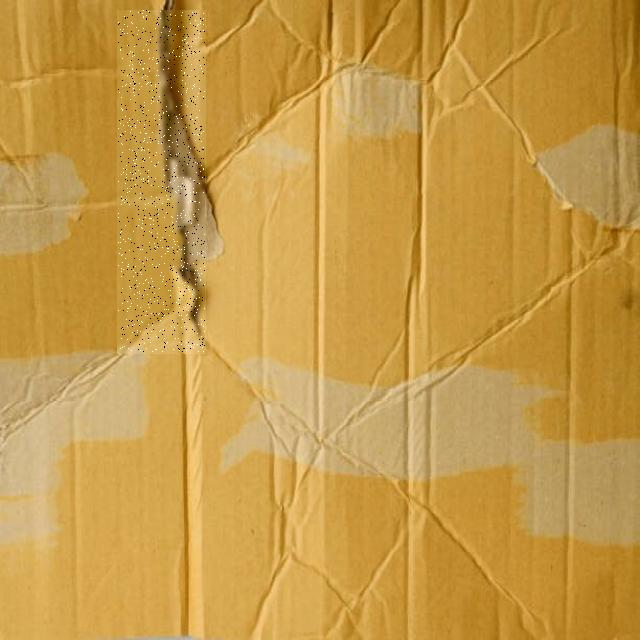squeeze: (119, 10, 205, 352)
